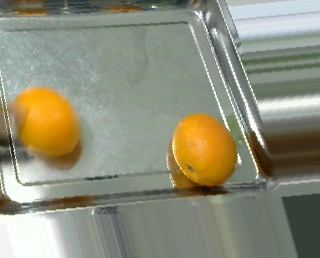Orange: (170, 111, 237, 186), (13, 85, 83, 155)
